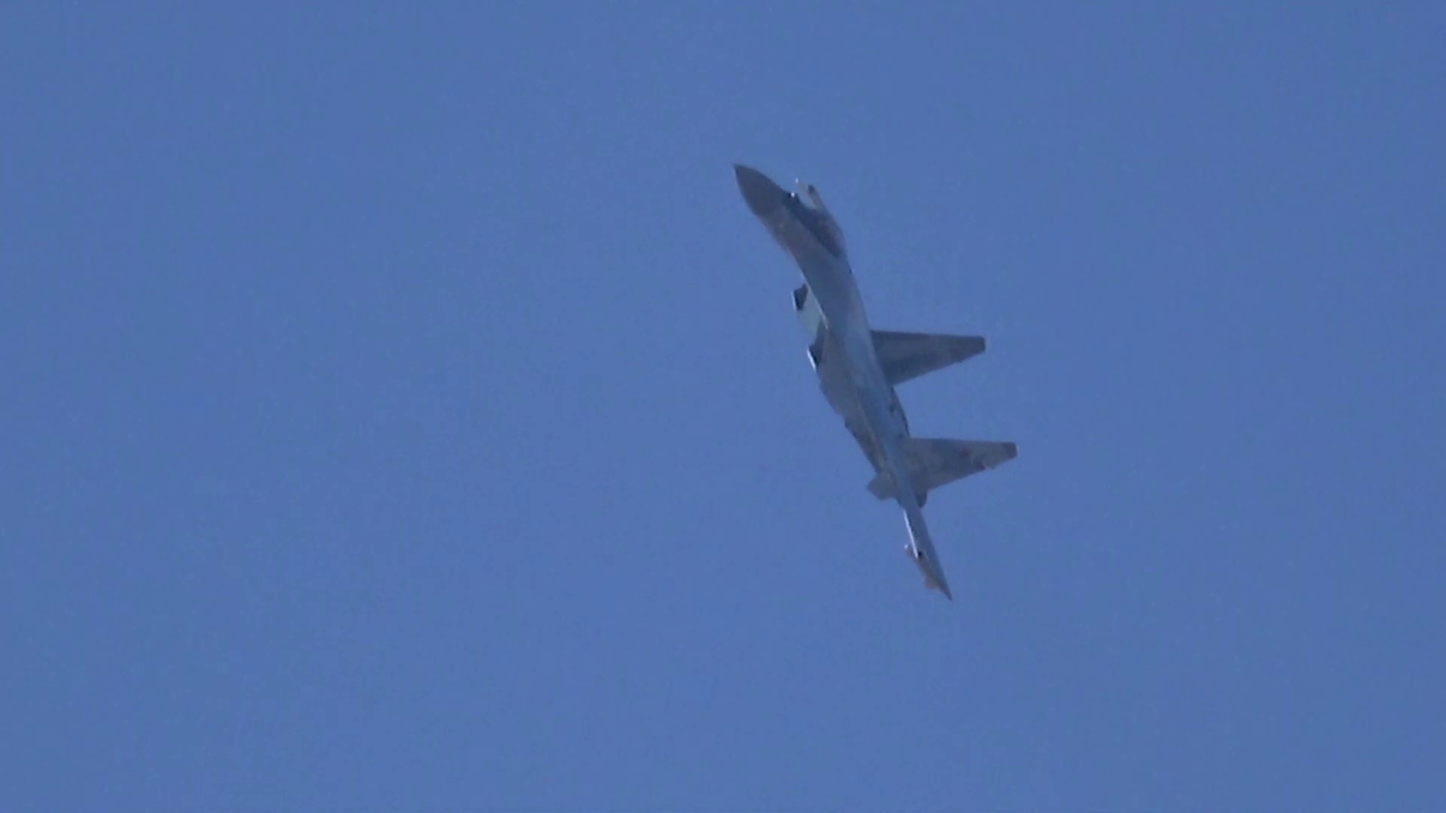Su35: (735, 165, 1017, 602)
